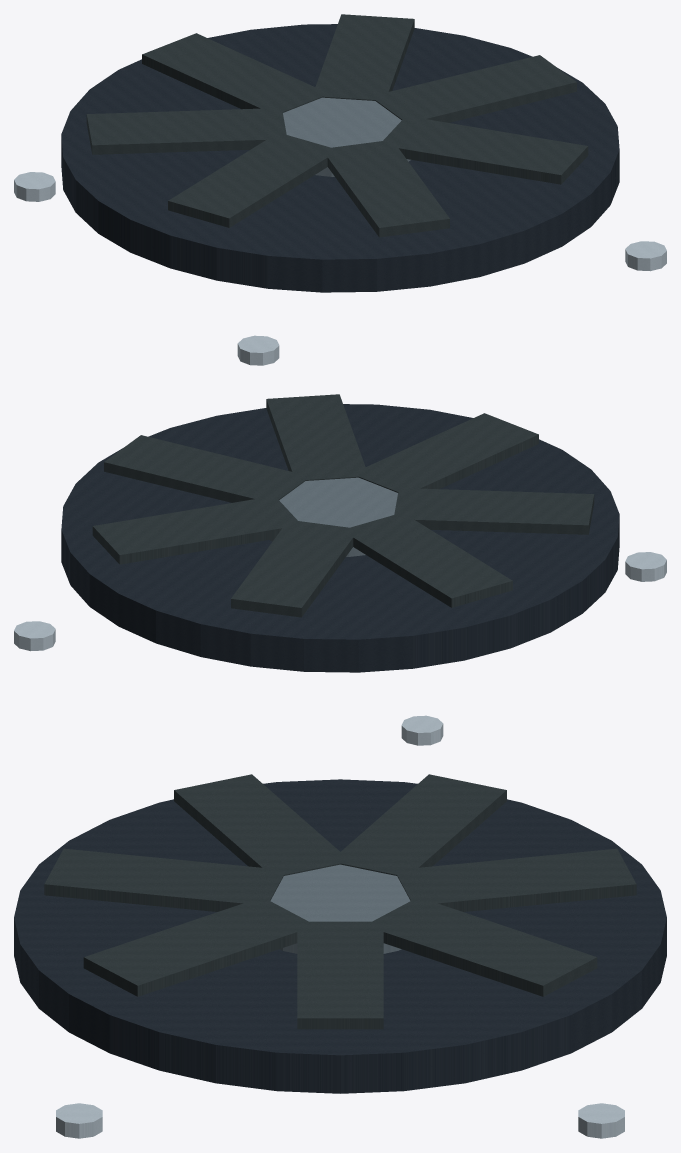
File: 180_L114_FAN1.obj
3 views of the same model, one above another, from view 1: azimuth 30°, elevation 25°; view 2: azimuth 150°, elevation 25°; view 3: azimuth 270°, elevation 25° (orthographic). The views are drawn at different scales.
Parts seen in each view (by area): view 1: 180_L114_FAN1__PSMAT__Fan_Black, 180_L114_FAN1__PSMAT__Fan_Rubber, 180_L114_FAN1__PSMAT__Aluminum_Anodized, 180_L114_FAN1__PSMAT__Tin_Solder; view 2: 180_L114_FAN1__PSMAT__Fan_Black, 180_L114_FAN1__PSMAT__Fan_Rubber, 180_L114_FAN1__PSMAT__Aluminum_Anodized, 180_L114_FAN1__PSMAT__Tin_Solder; view 3: 180_L114_FAN1__PSMAT__Fan_Black, 180_L114_FAN1__PSMAT__Fan_Rubber, 180_L114_FAN1__PSMAT__Aluminum_Anodized, 180_L114_FAN1__PSMAT__Tin_Solder.
Part boxes in pixels (x1=…): 180_L114_FAN1__PSMAT__Fan_Black: x1=61, y1=24, x2=619, y2=292; 180_L114_FAN1__PSMAT__Fan_Rubber: x1=86, y1=14, x2=588, y2=237; 180_L114_FAN1__PSMAT__Aluminum_Anodized: x1=283, y1=97, x2=410, y2=176; 180_L114_FAN1__PSMAT__Tin_Solder: x1=14, y1=172, x2=666, y2=365; 180_L114_FAN1__PSMAT__Fan_Black: x1=61, y1=404, x2=619, y2=672; 180_L114_FAN1__PSMAT__Fan_Rubber: x1=92, y1=394, x2=594, y2=617; 180_L114_FAN1__PSMAT__Aluminum_Anodized: x1=270, y1=477, x2=397, y2=556; 180_L114_FAN1__PSMAT__Tin_Solder: x1=14, y1=552, x2=666, y2=745; 180_L114_FAN1__PSMAT__Fan_Black: x1=14, y1=779, x2=666, y2=1093; 180_L114_FAN1__PSMAT__Fan_Rubber: x1=44, y1=774, x2=636, y2=1029; 180_L114_FAN1__PSMAT__Aluminum_Anodized: x1=270, y1=864, x2=410, y2=953; 180_L114_FAN1__PSMAT__Tin_Solder: x1=56, y1=1103, x2=624, y2=1138.
Size of the model in its own units: 0.04 by 0.00837 by 0.04.
Materials: 4 (4 with a texture image).
